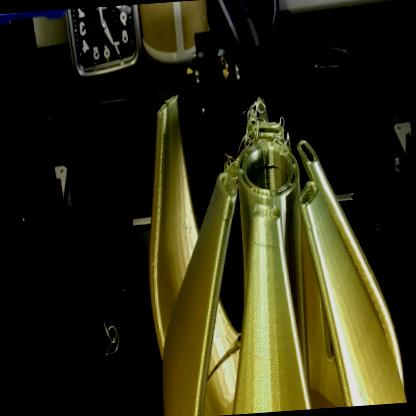fail: (234, 94, 268, 150), (96, 315, 125, 363)
